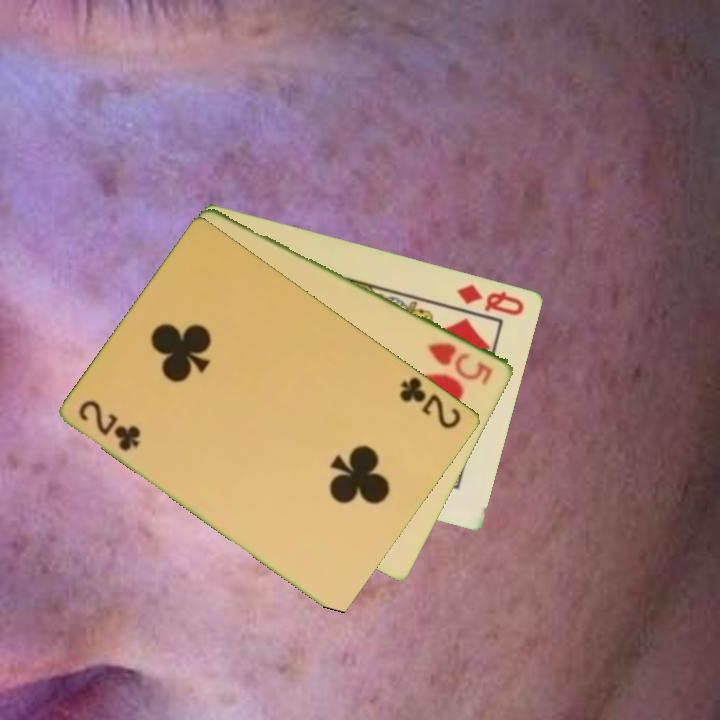2c: (396, 373, 465, 432), (75, 396, 145, 454)
5h: (424, 338, 496, 388)
Qd: (454, 280, 528, 319)
